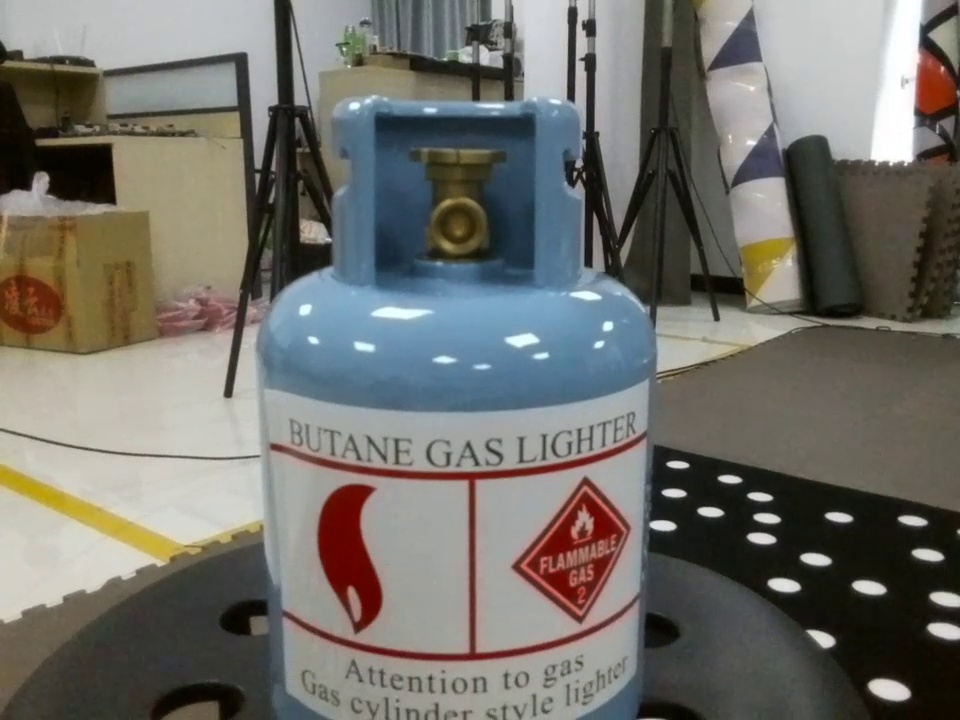gas tank: (244, 92, 663, 716)
